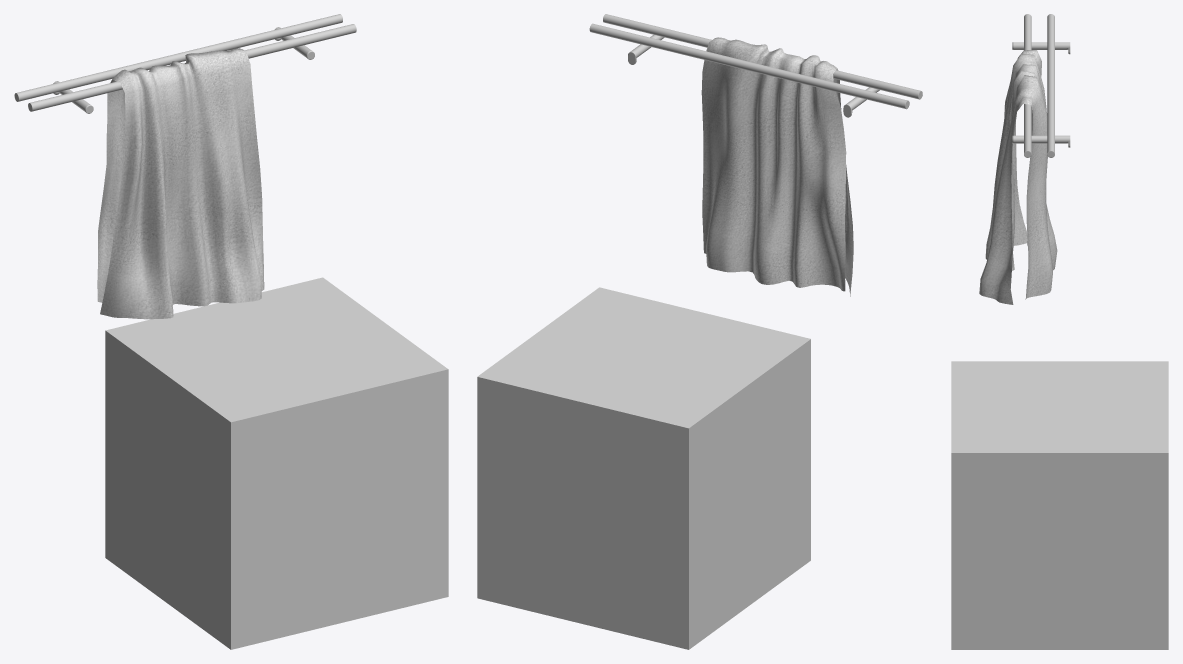
Rendered from com_bath3.fbx.
3 renders of one model, left to right at view 1: azimuth 30°, elevation 25°; view 2: azimuth 150°, elevation 25°; view 3: azimuth 270°, elevation 25°, orthographic. The views are drawn at different scales.
Visible parts, largest first — view 1: Cube, A_toalla_blanc_Mesh, A_estanteria_metal_Cylinder.003; view 2: Cube, A_toalla_blanc_Mesh, A_estanteria_metal_Cylinder.003; view 3: Cube, A_toalla_blanc_Mesh, A_estanteria_metal_Cylinder.003.
Part boxes in pixels (<box>): Cube: <box>105,277,448,649</box>; A_toalla_blanc_Mesh: <box>97,48,264,319</box>; A_estanteria_metal_Cylinder.003: <box>14,14,356,113</box>; Cube: <box>477,287,810,649</box>; A_toalla_blanc_Mesh: <box>701,37,853,296</box>; A_estanteria_metal_Cylinder.003: <box>589,14,922,117</box>; Cube: <box>951,361,1168,649</box>; A_toalla_blanc_Mesh: <box>979,50,1057,304</box>; A_estanteria_metal_Cylinder.003: <box>1012,14,1070,157</box>.
Size of the model in its own units: 344 by 492 by 200.
